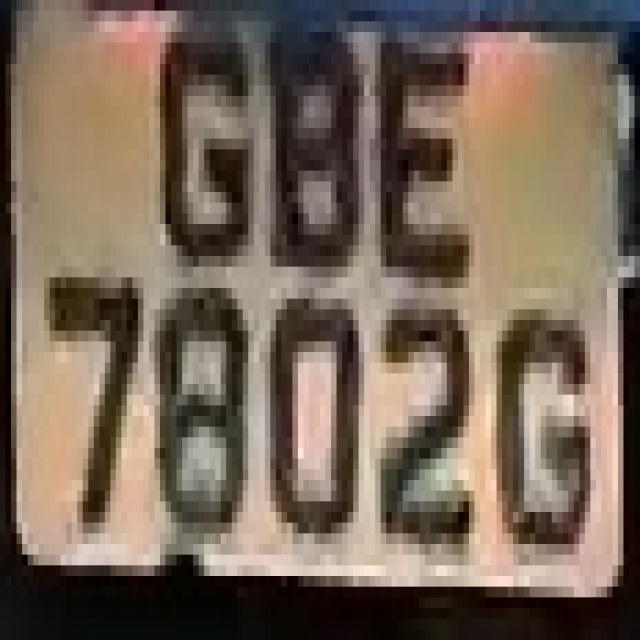0: (248, 288, 364, 533)
2: (364, 235, 480, 576)
7: (38, 224, 144, 555)
8: (138, 278, 265, 566)
B: (253, 11, 369, 288)
E: (364, 0, 486, 288)
G: (132, 0, 253, 277), (485, 288, 596, 587)
